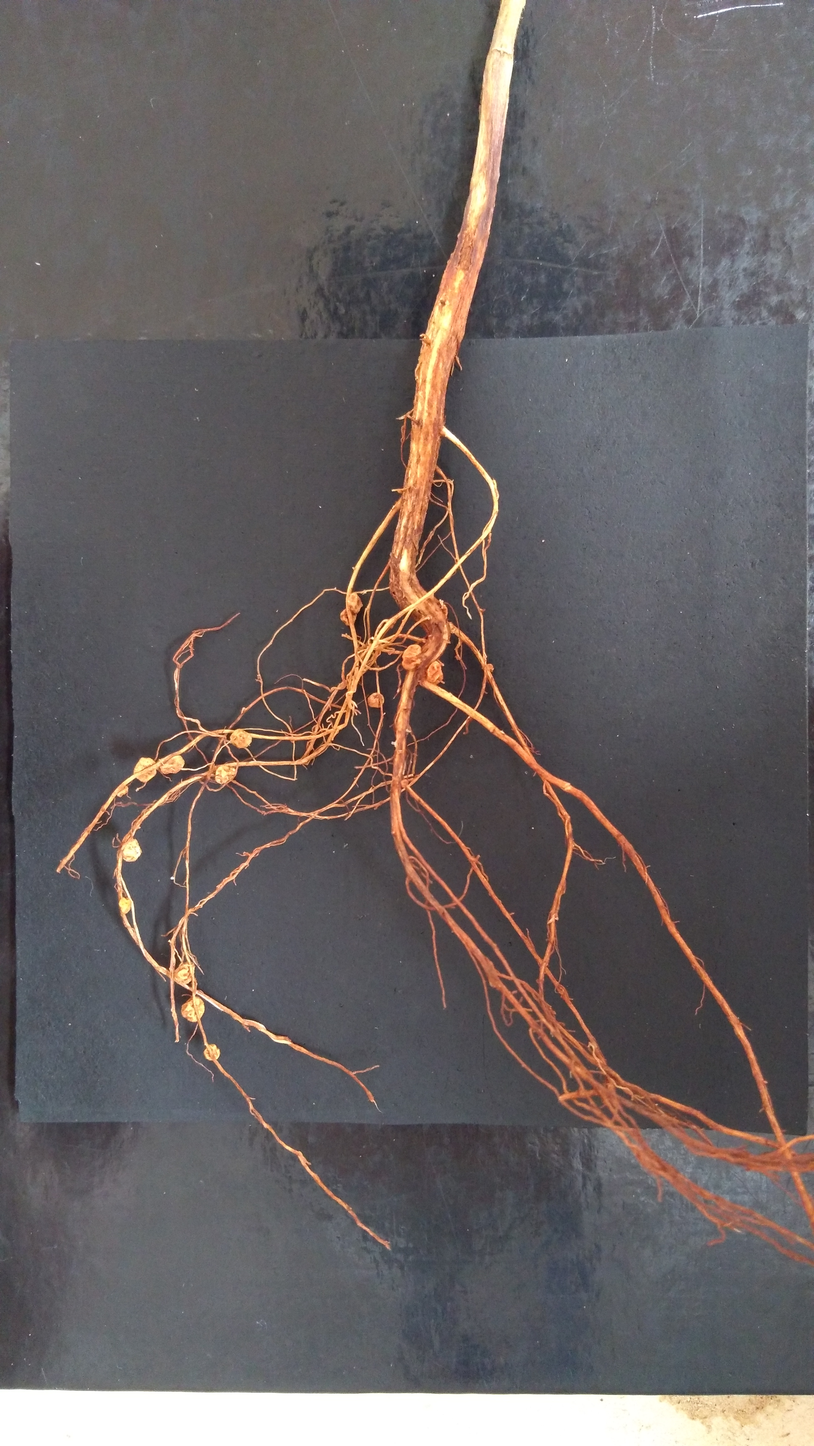nodule: (180, 996, 205, 1023), (133, 757, 157, 783), (401, 644, 422, 671), (120, 837, 142, 862), (159, 755, 185, 775), (173, 961, 195, 984), (229, 728, 253, 749), (426, 660, 444, 686), (214, 765, 237, 785), (347, 592, 364, 615), (203, 1043, 221, 1062), (340, 607, 357, 626), (367, 692, 385, 708), (118, 896, 132, 915), (116, 785, 129, 797), (440, 604, 449, 619), (400, 778, 409, 789), (485, 663, 495, 672)
